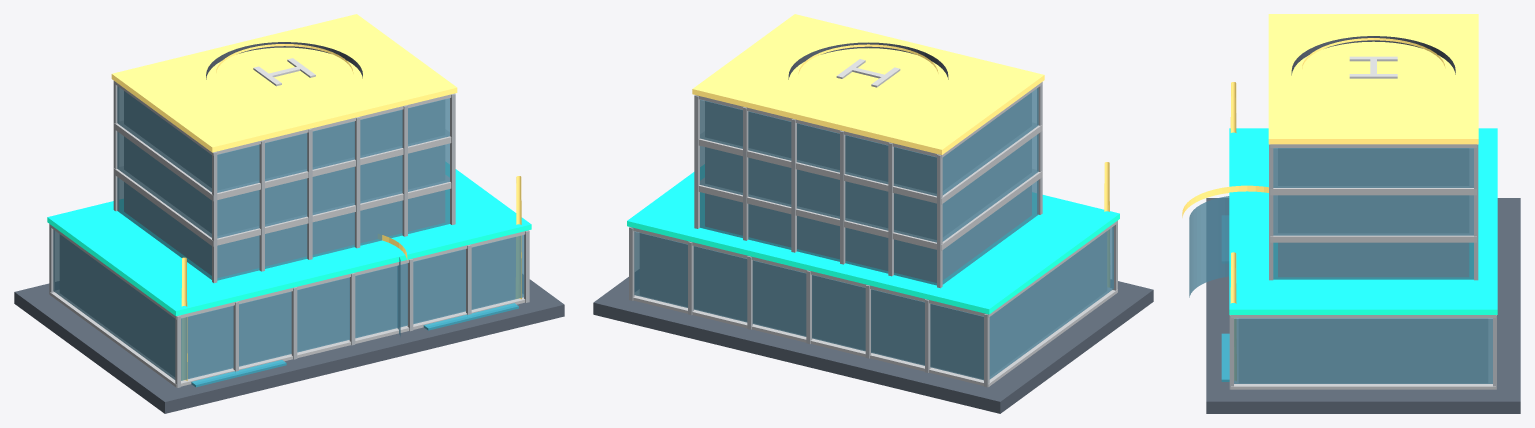
The model's file is club_hq_operations.master.glb.
The picture shows the model from 3 angles, left to right: view 1: azimuth 30°, elevation 25°; view 2: azimuth 150°, elevation 25°; view 3: azimuth 270°, elevation 25°; orthographic projection. The views are drawn at different scales.
Parts seen in each view (by area): view 1: club_hq_operations_master; view 2: club_hq_operations_master; view 3: club_hq_operations_master.
Boxes of the visible parts, box(x1,y1,x2,y2) form: club_hq_operations_master: box(14, 14, 564, 413); club_hq_operations_master: box(593, 14, 1153, 413); club_hq_operations_master: box(1182, 14, 1520, 413).
Bounding box in the file's own units: 2.82 × 1.59 × 1.98.
